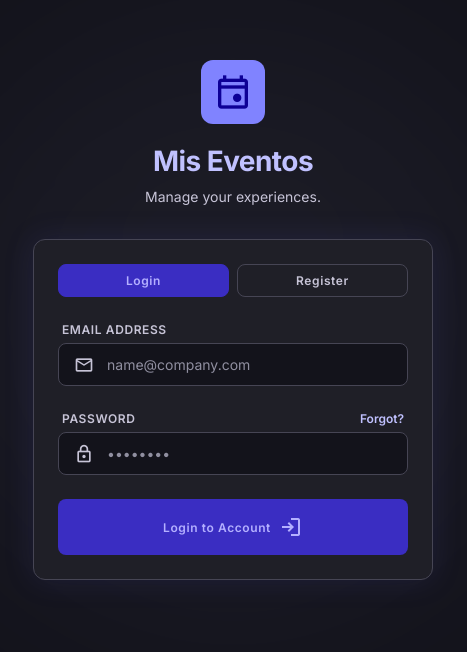
Scenario: LoginPage › submits register form and returns to login tab on success
Click the button "Register": (322, 280) [237,264,408,297]
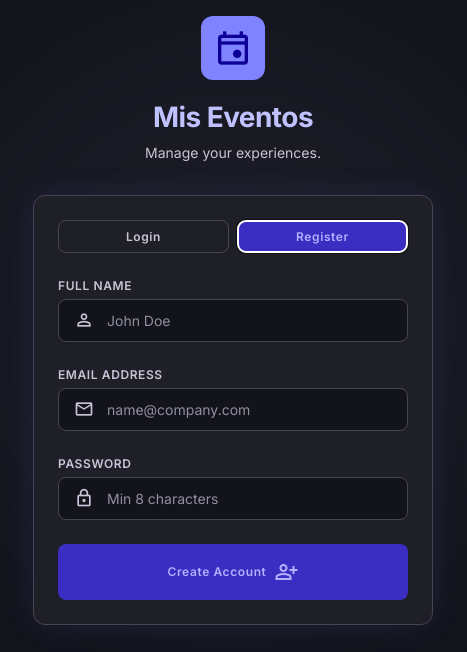
In the field labelled "Full Name": (233, 320) [58,298,408,342], type "New User"
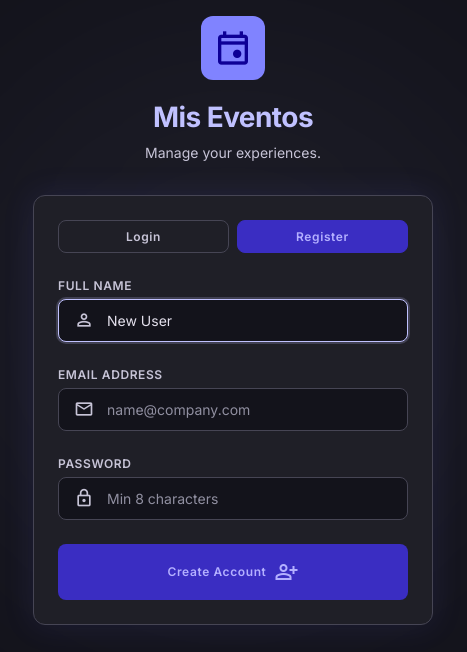
In the field labelled "Email Address": (233, 409) [58,388,408,430], type "new@test.com"
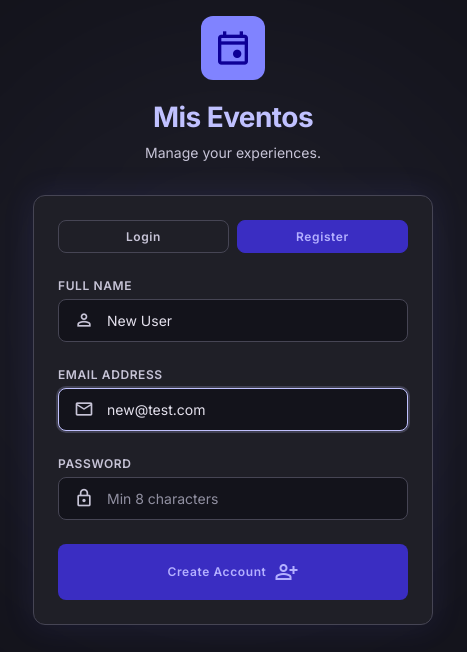
In the password field labelled "Password": (233, 498) [58,476,408,520], type "12345678"
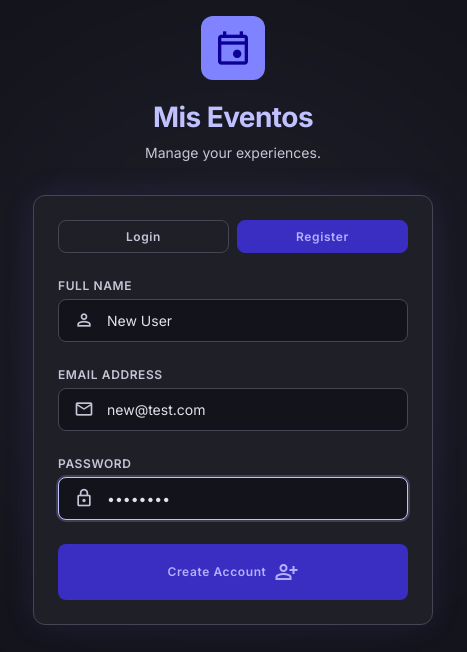
Click the button "Create Account": (233, 572) [58,544,408,600]
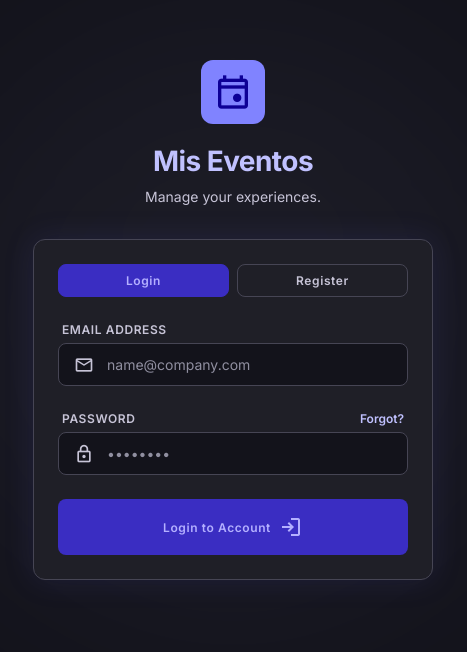
Expected: the button "Login to Account" is shown, [58,499,408,555]
